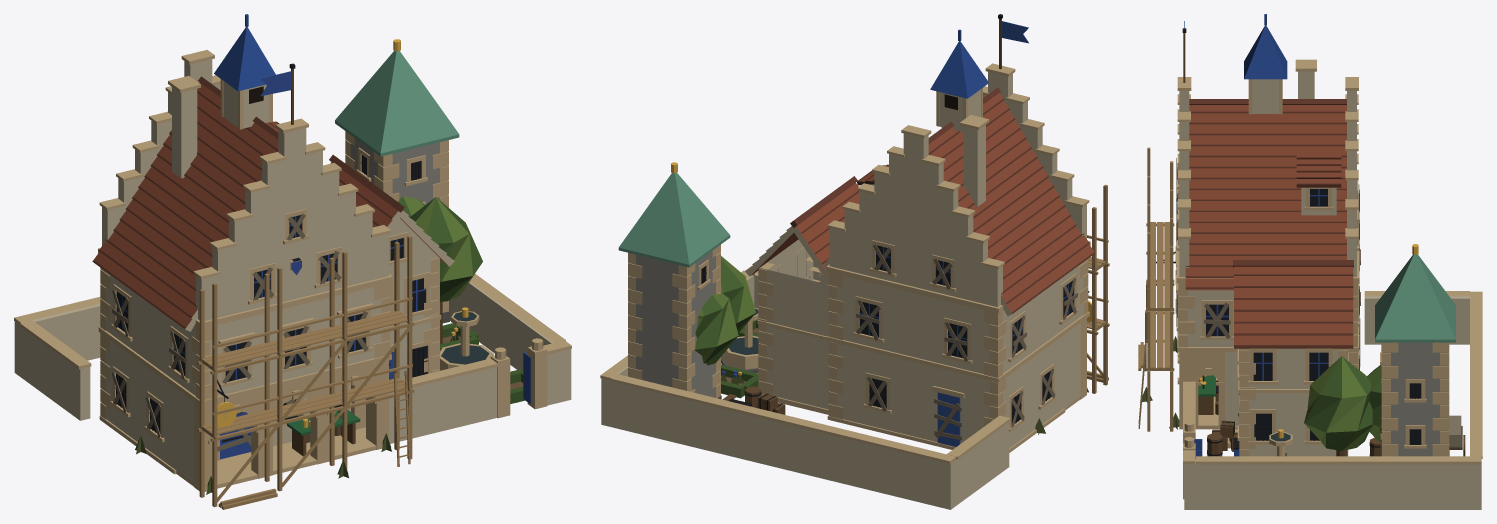
Rendered from geldleiher.glb.
3 renders of one model, left to right at view 1: azimuth 30°, elevation 25°; view 2: azimuth 150°, elevation 25°; view 3: azimuth 270°, elevation 25°, orthographic. The views are drawn at different scales.
Parts seen in each view (by area): view 1: Haus, Stufe1, Geruest, Stufe3, Stufe2, Leerstand, Laubkrone_Stufe2, Fahne; view 2: Haus, Stufe1, Stufe3, Stufe2, Leerstand, Geruest, Laubkrone_Stufe1, Laubkrone_Stufe2, Fahne; view 3: Haus, Stufe2, Stufe1, Stufe3, Geruest, Laubkrone_Stufe2, Leerstand, Laubkrone_Stufe1.
Part boxes in pixels (x1,y1,x2,y2): Haus: (92,49,394,491); Stufe1: (14,274,571,443); Geruest: (197,235,414,509); Stufe3: (214,14,524,403); Stufe2: (265,121,454,379); Leerstand: (111,213,391,494); Laubkrone_Stufe2: (410,197,482,301); Fahne: (260,63,295,124); Haus: (823,63,1095,452); Stufe1: (600,266,1010,509); Stufe3: (618,29,988,399); Stufe2: (728,164,888,414); Leerstand: (856,244,1088,440); Geruest: (1087,184,1109,393); Laubkrone_Stufe1: (694,292,738,365); Laubkrone_Stufe2: (720,256,755,333); Fahne: (998,14,1028,69); Haus: (1156,59,1359,429); Stufe2: (1227,155,1465,456); Stufe1: (1183,291,1482,509); Stufe3: (1244,14,1455,456); Geruest: (1138,147,1174,431); Laubkrone_Stufe2: (1304,356,1372,450); Leerstand: (1140,158,1360,429); Laubkrone_Stufe1: (1367,364,1381,442).
Size of the model in its own units: 15.9 by 16.27 by 13.57.
